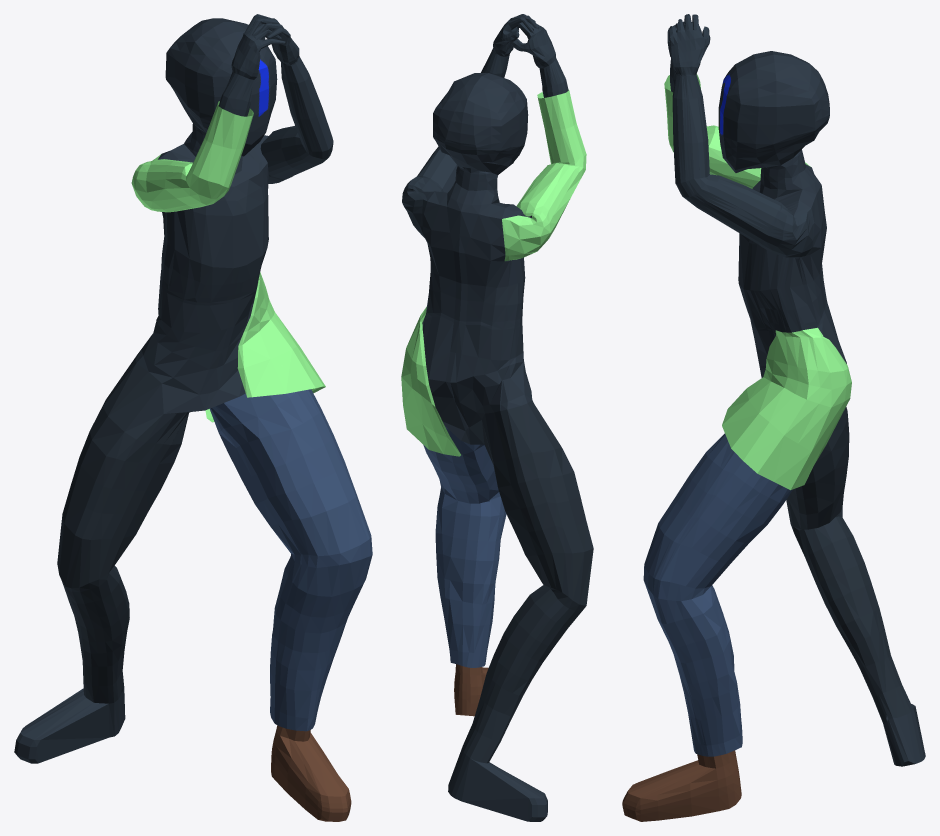
Rendered from Mar_Attack_000017.obj.
The picture shows the model from 3 angles, left to right: view 1: azimuth 30°, elevation 25°; view 2: azimuth 150°, elevation 25°; view 3: azimuth 270°, elevation 25°; orthographic projection. The views are drawn at different scales.
Parts seen in each view (by area): view 1: Cube.000_Cube.001; view 2: Cube.000_Cube.001; view 3: Cube.000_Cube.001.
Boxes of the visible parts, x1=… form: Cube.000_Cube.001: x1=14, y1=14, x2=372, y2=821; Cube.000_Cube.001: x1=401, y1=14, x2=593, y2=821; Cube.000_Cube.001: x1=622, y1=14, x2=925, y2=821.
Size of the model in its own units: 1.21 by 3.91 by 1.38.
